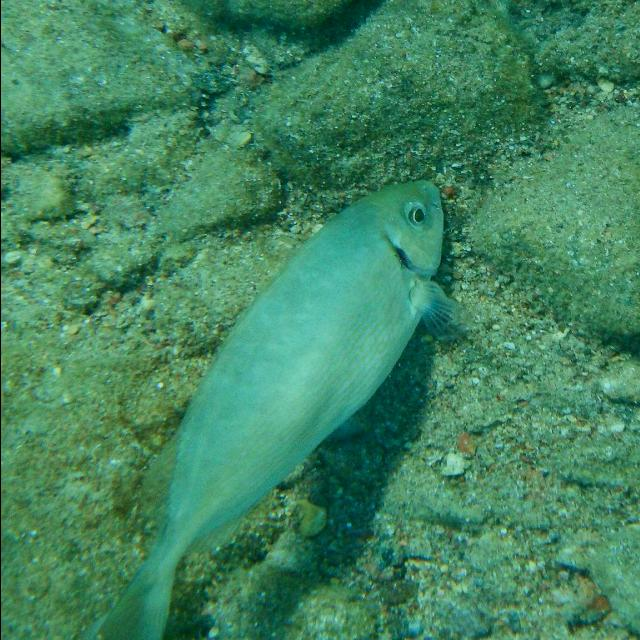Sokar Baligi: (66, 160, 472, 640)
